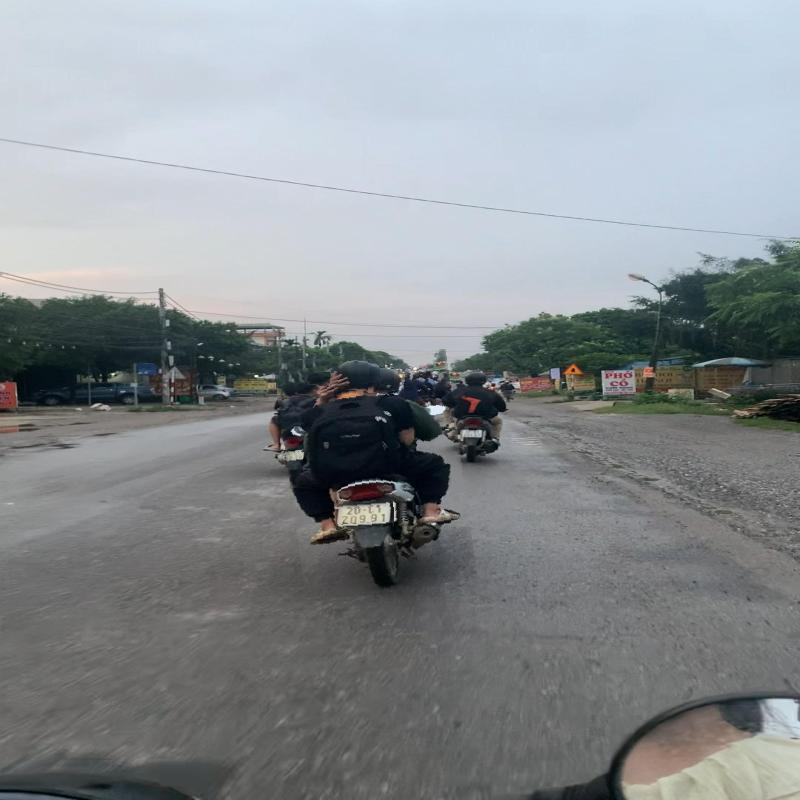helmet: (330, 358, 385, 392), (368, 367, 406, 395)
licenseplate: (334, 501, 394, 529)
motorcyclist: (282, 355, 470, 597)
nohelmet: (307, 372, 330, 386)
